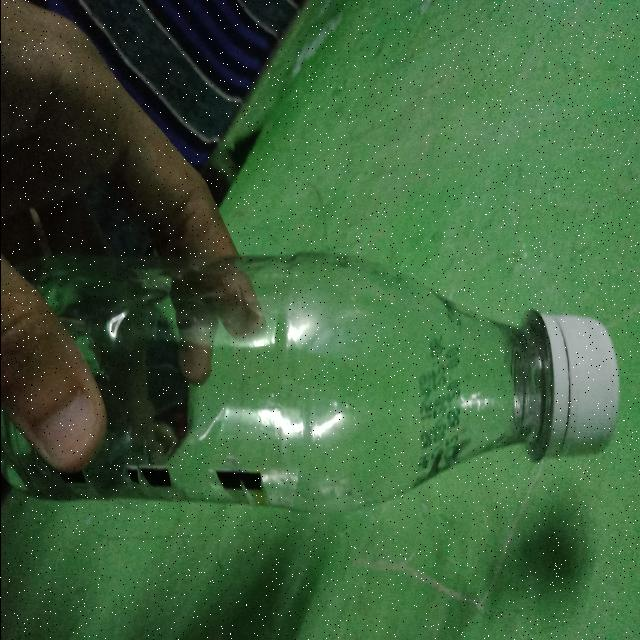plastic: (0, 252, 621, 516)
